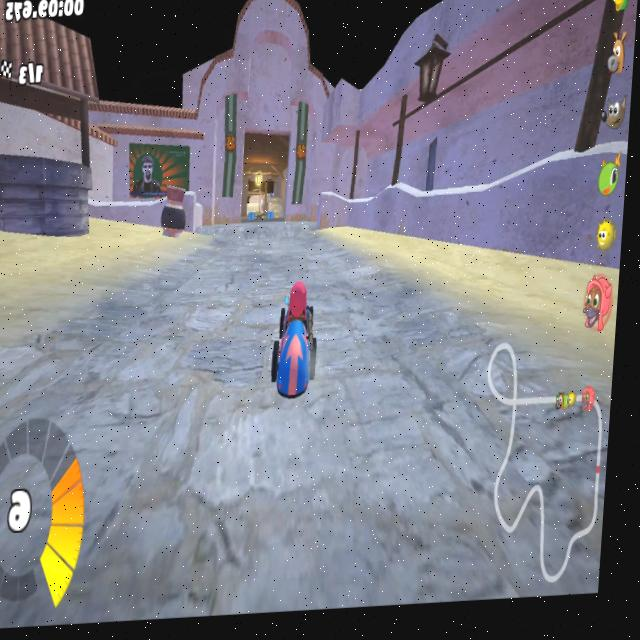bonus: (247, 208, 254, 221), (266, 208, 274, 217)
player_kart: (267, 276, 335, 403)
track: (244, 381, 548, 623), (106, 265, 273, 631), (33, 288, 125, 633), (0, 329, 49, 628), (329, 307, 468, 393), (211, 222, 288, 272), (335, 269, 405, 313), (284, 219, 314, 269), (311, 244, 354, 265)
